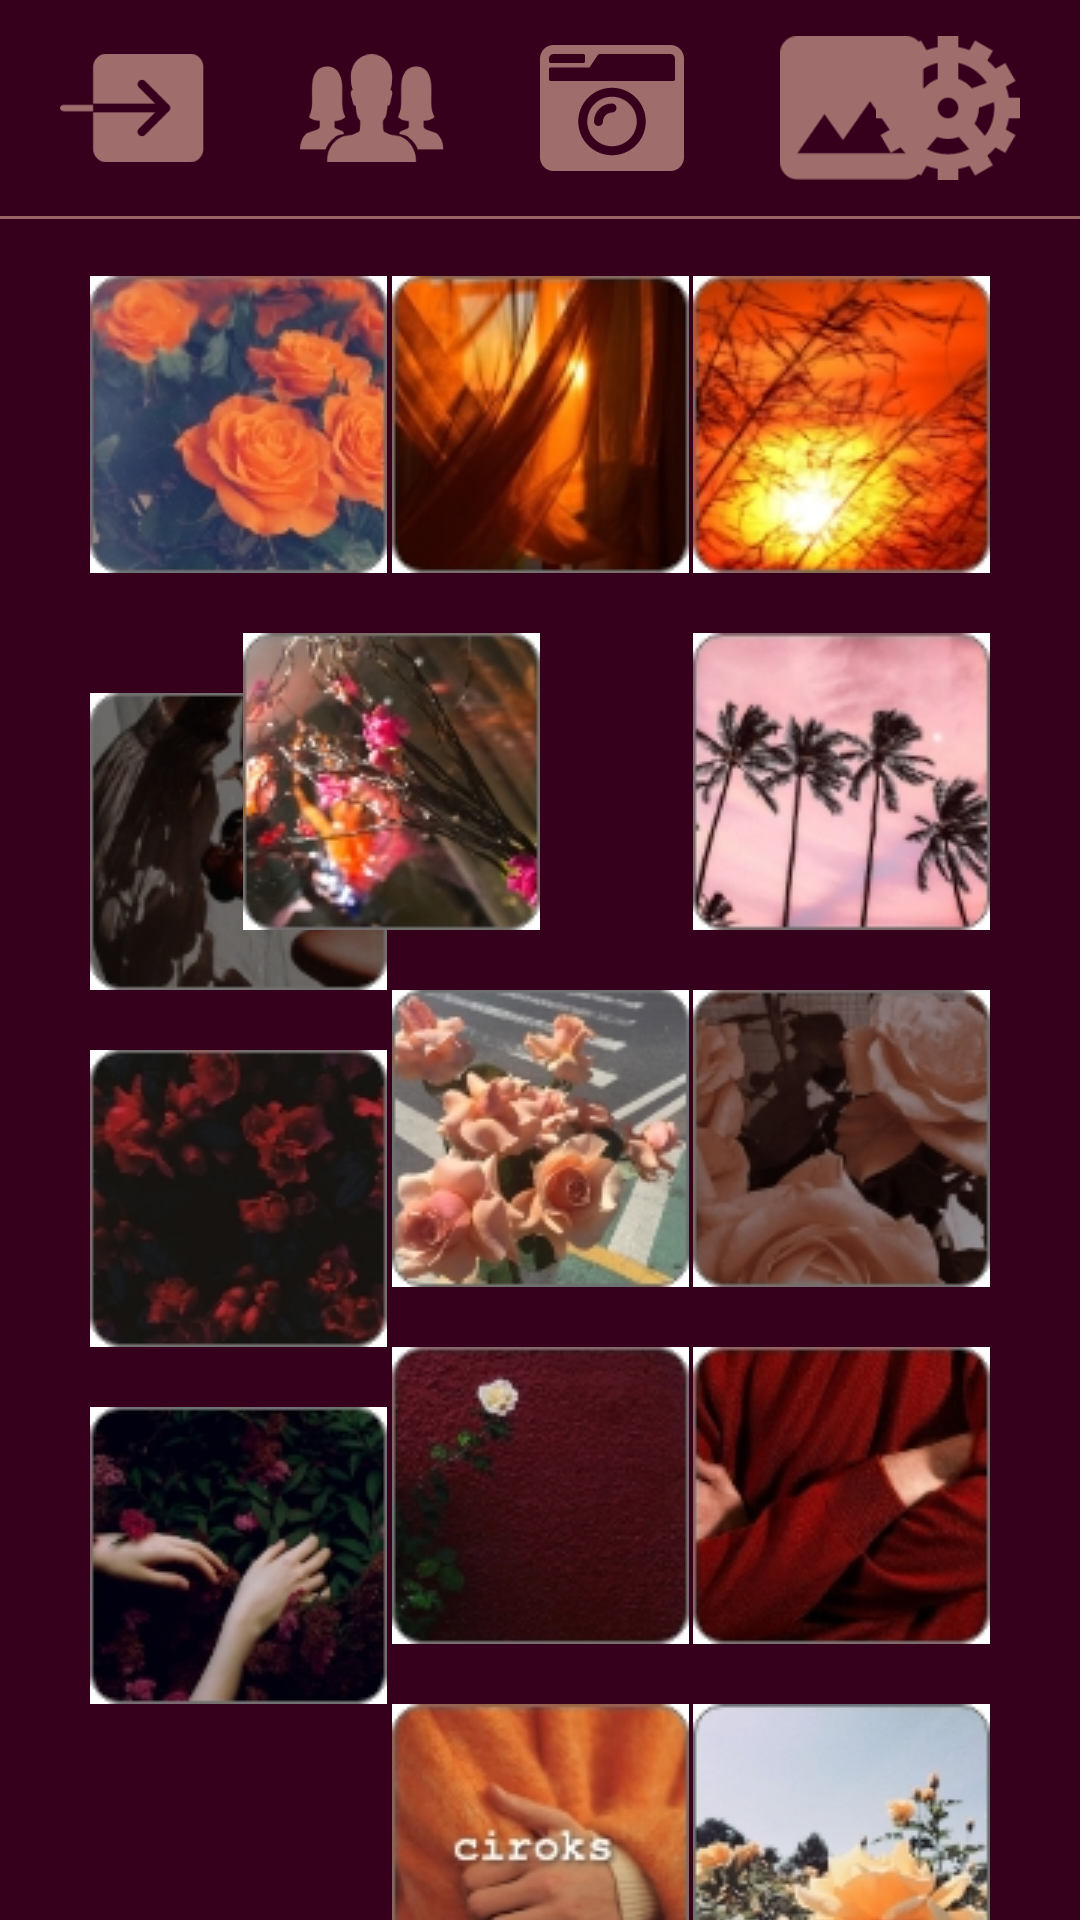

Point at icon controls on the screen. Image size 1080 × 1920, points as (x,y).
camera: (612,108)
exit: (132,108)
people: (372,108)
